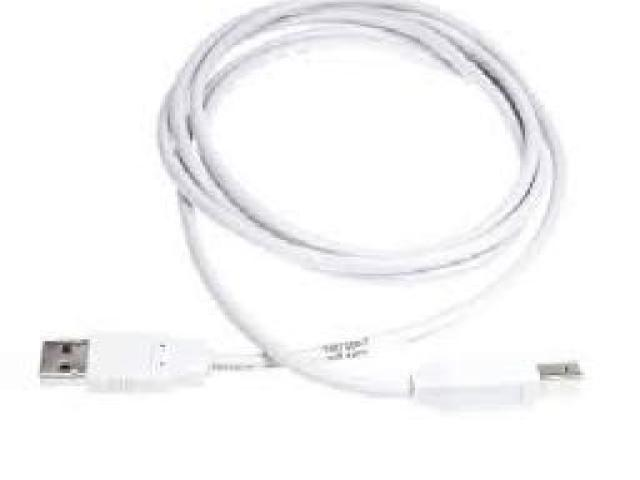wire: (40, 0, 585, 408)
